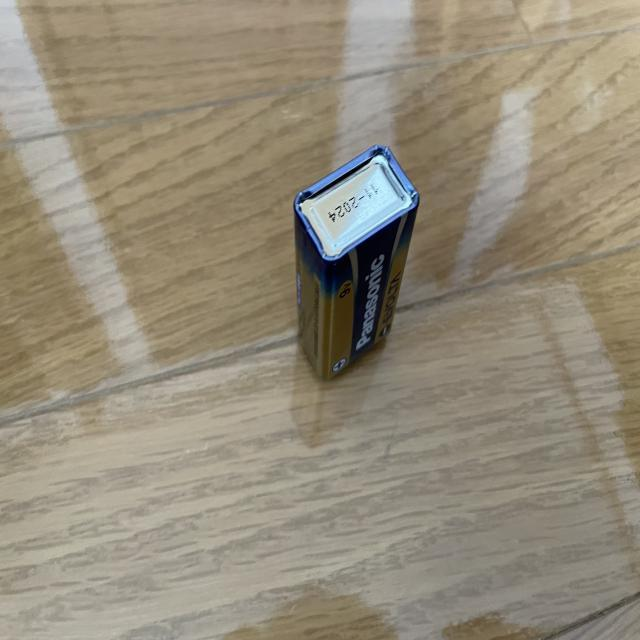9V: (292, 141, 421, 387)
